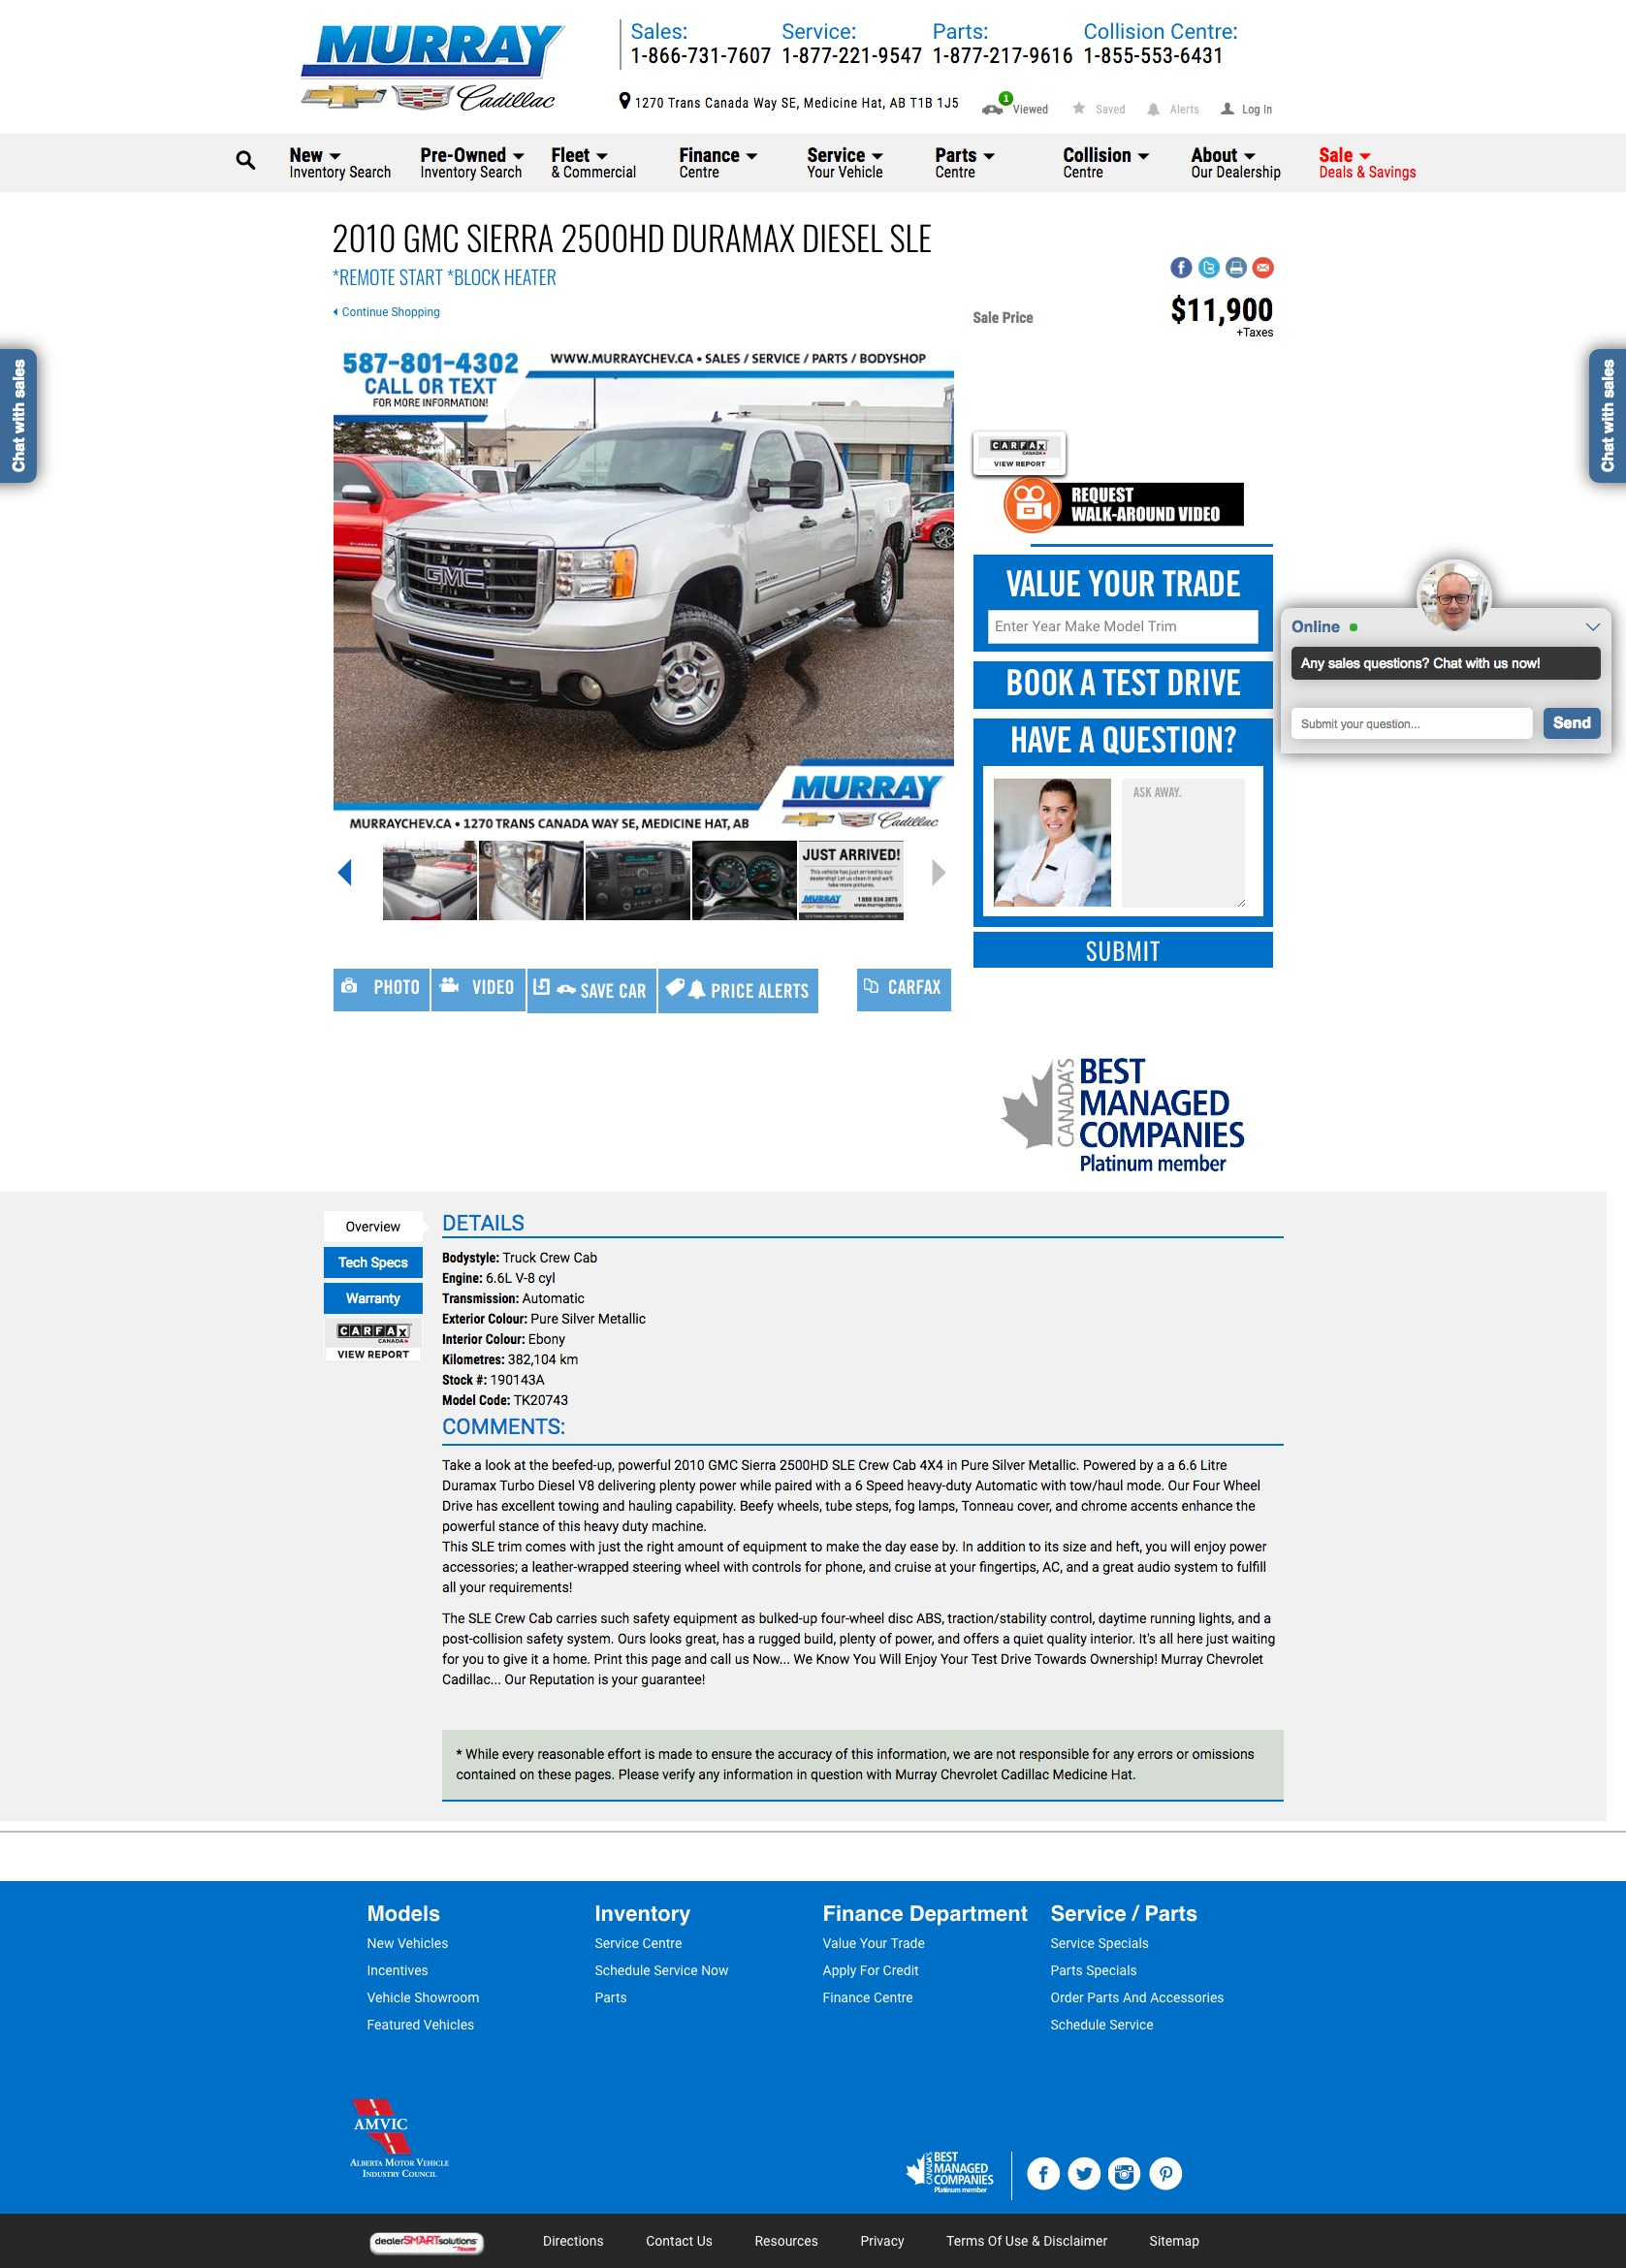car: (931, 859, 948, 889)
